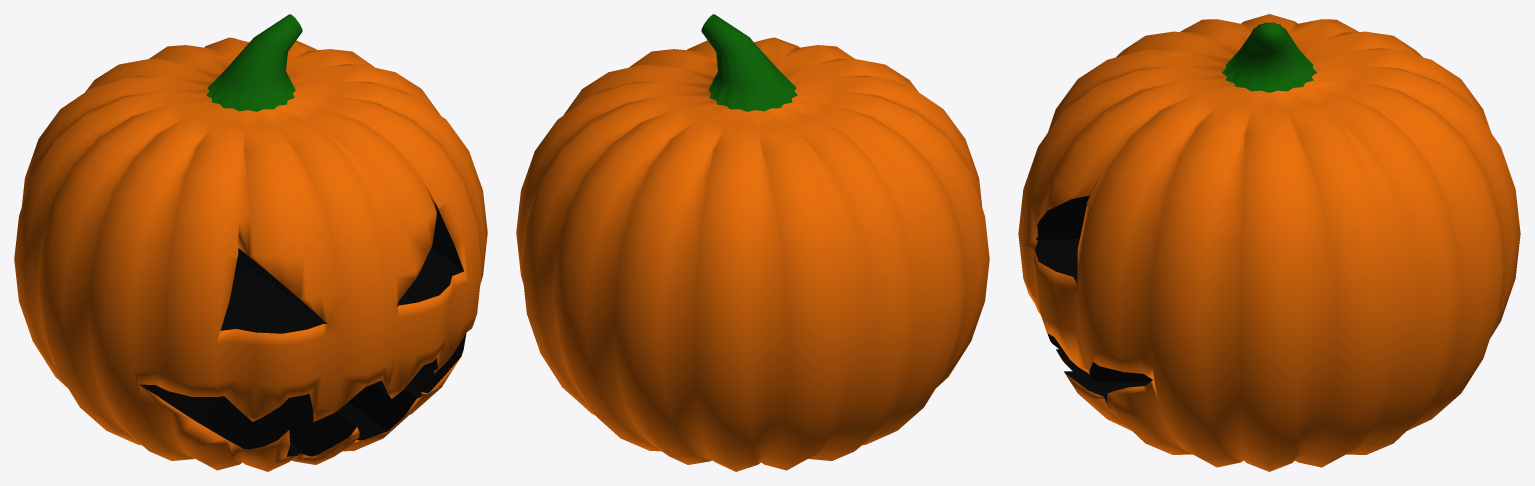
Rendered from PumpkinJack.fbx.
3 renders of one model, left to right at view 1: azimuth 30°, elevation 25°; view 2: azimuth 150°, elevation 25°; view 3: azimuth 270°, elevation 25°, orthographic. The views are drawn at different scales.
Visible parts, largest first — view 1: Sphere; view 2: Sphere; view 3: Sphere.
Part boxes in pixels (x1,y1,x2,y2): Sphere: [14, 14, 487, 471]; Sphere: [516, 14, 989, 471]; Sphere: [1018, 14, 1520, 471].
Size of the model in its own units: 125 by 117 by 125.
